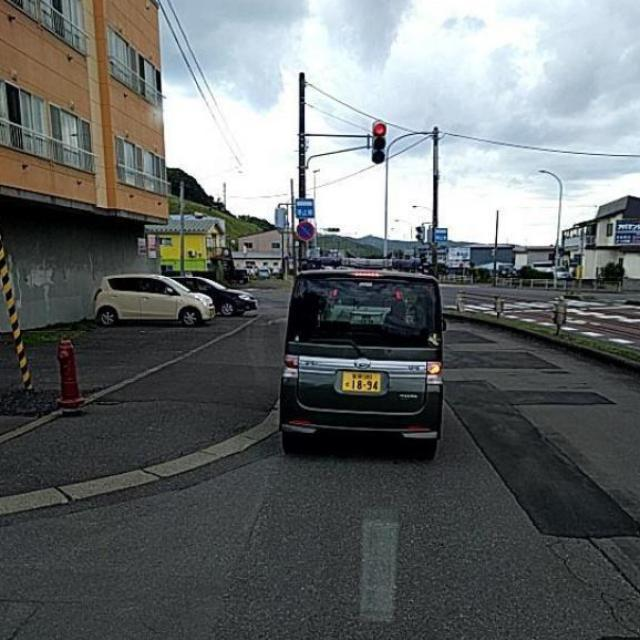Sambungan: (445, 380, 640, 543), (500, 388, 611, 406)
